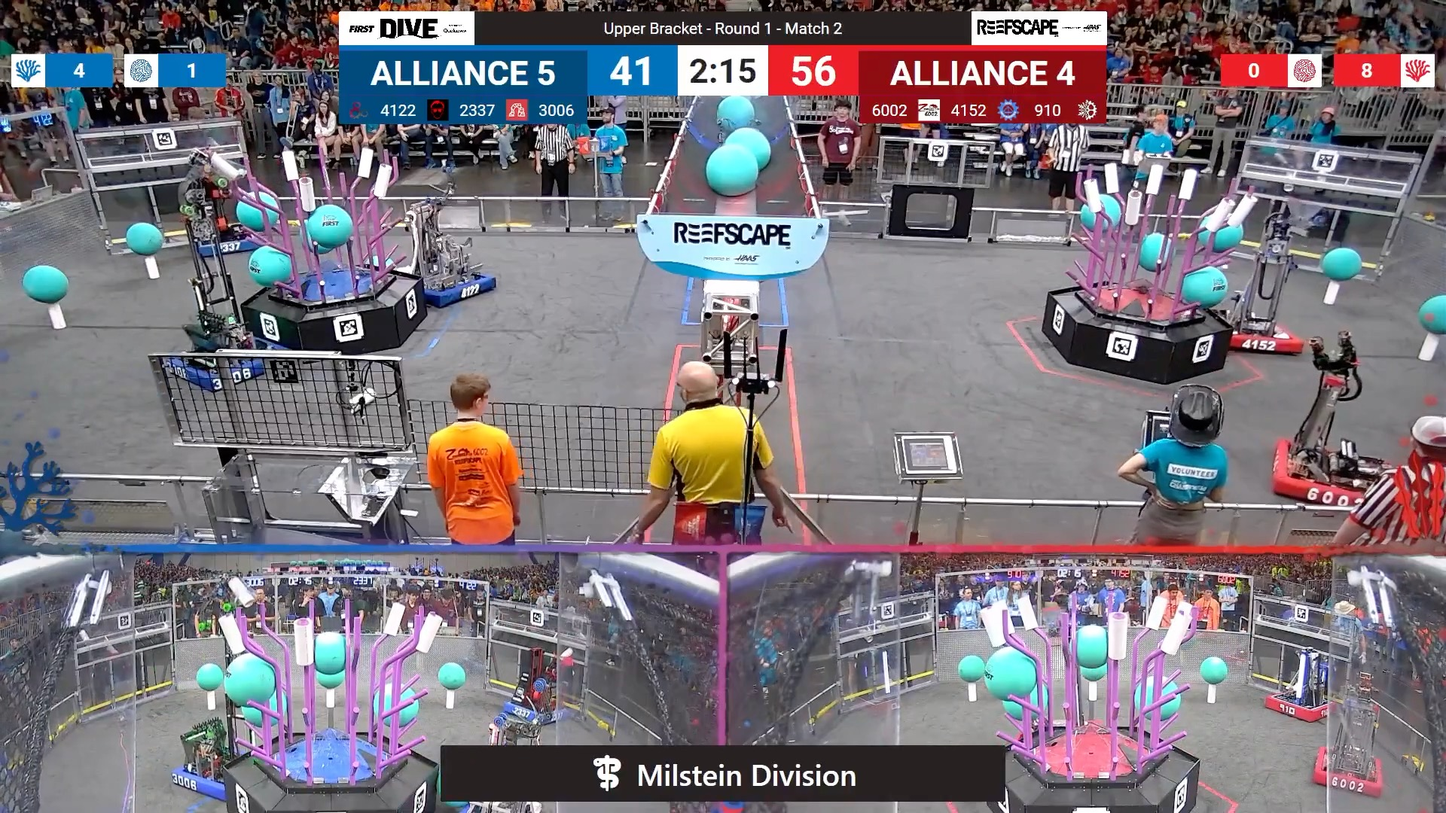bumpers: (1264, 439, 1402, 511), (165, 343, 279, 391), (395, 261, 505, 307), (1307, 742, 1389, 799), (1214, 314, 1311, 358), (166, 751, 243, 799), (1259, 691, 1341, 726), (497, 696, 572, 729), (186, 233, 267, 259)
